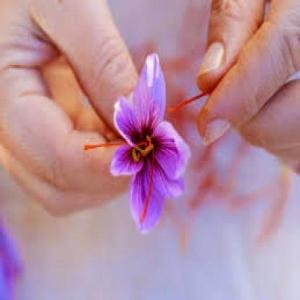Saffron: (115, 54, 188, 234)
